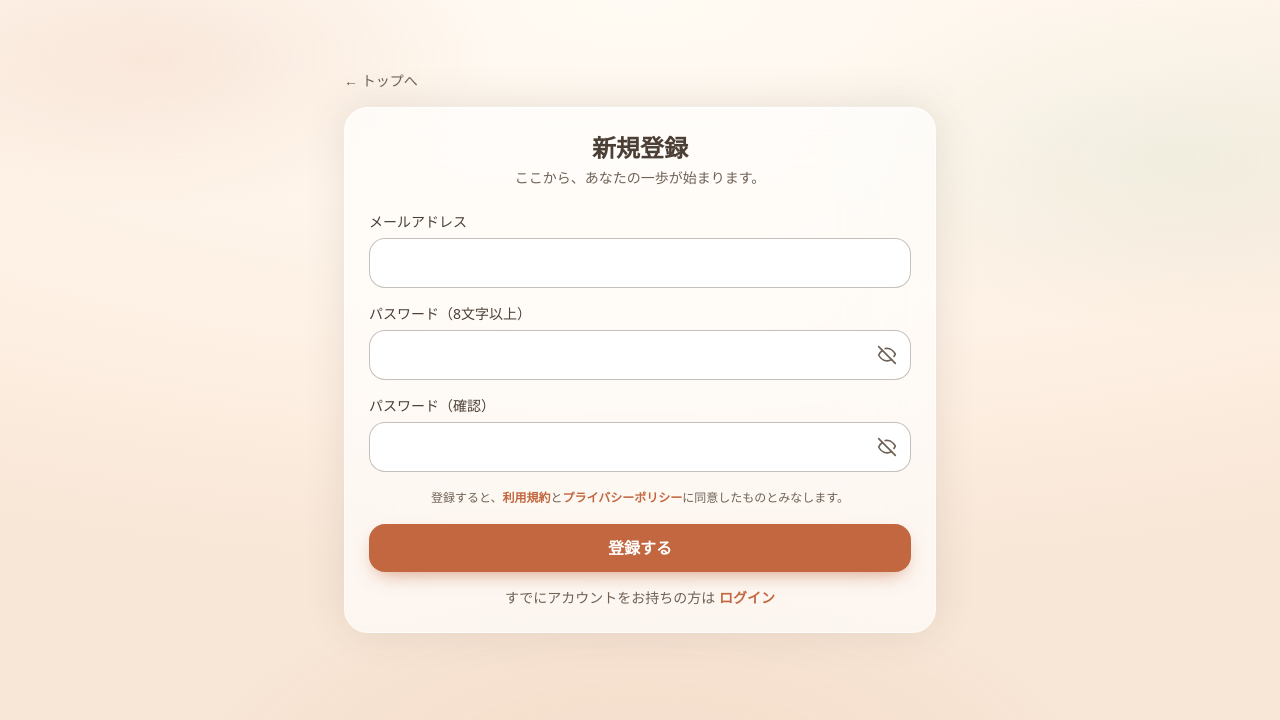
Test case: RegisterForm › パスワードが8文字未満ならエラーを表示する
In the field labelled "メールアドレス": (640, 263) [369, 238, 911, 288], type "taro@example.com"
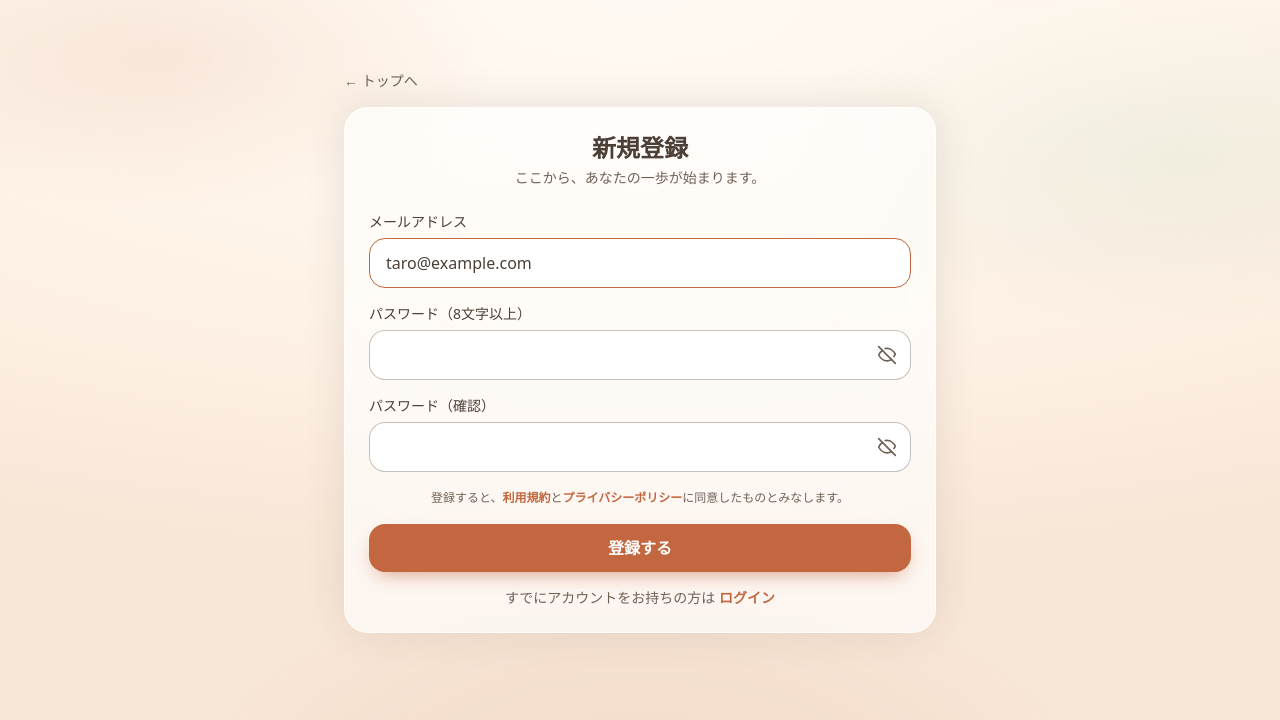
In the password field labelled "パスワード（8文字以上）": (640, 355) [369, 330, 911, 380], type "short"
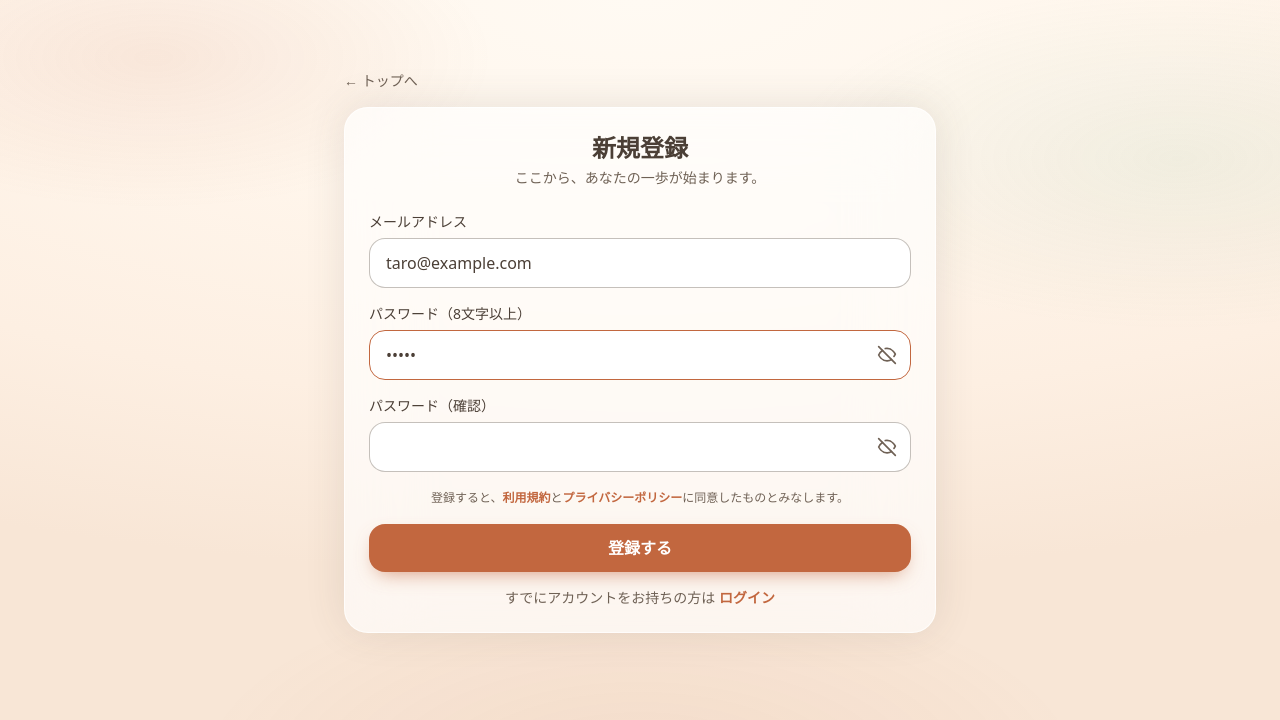
In the password field labelled "パスワード（確認）": (640, 447) [369, 422, 911, 472], type "short"
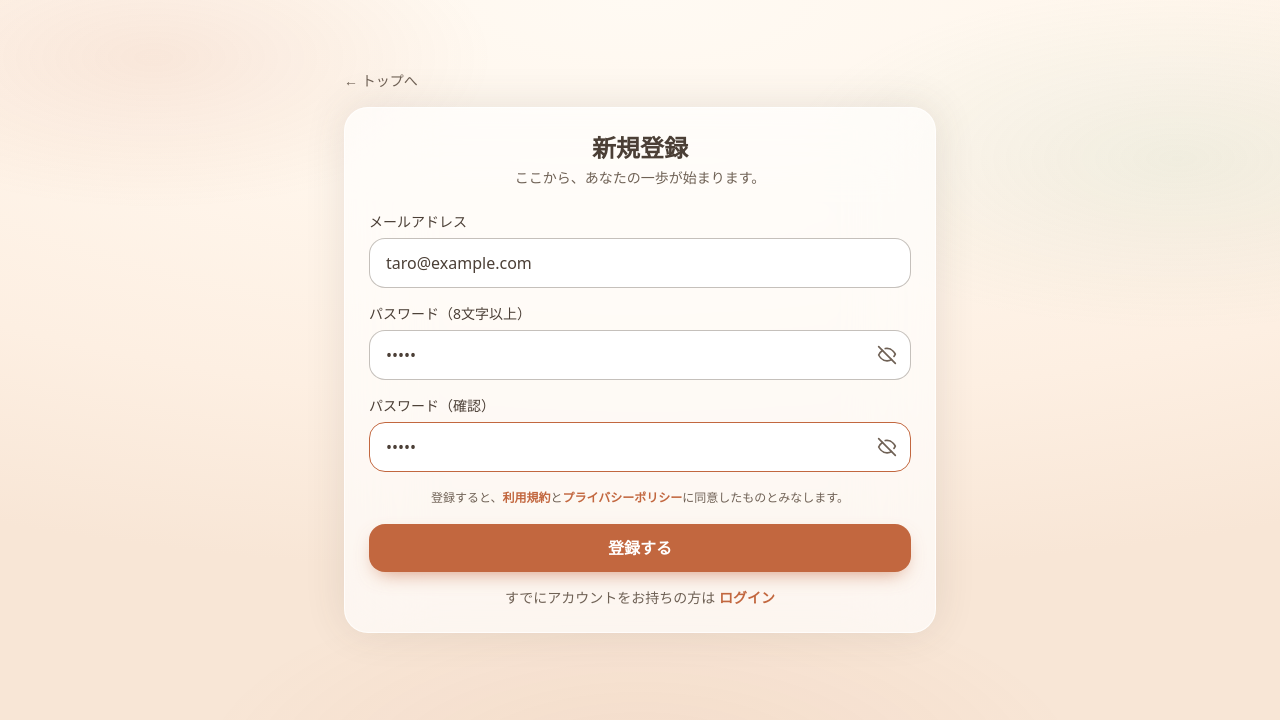
Click the button "登録する": (640, 548) [369, 524, 911, 572]
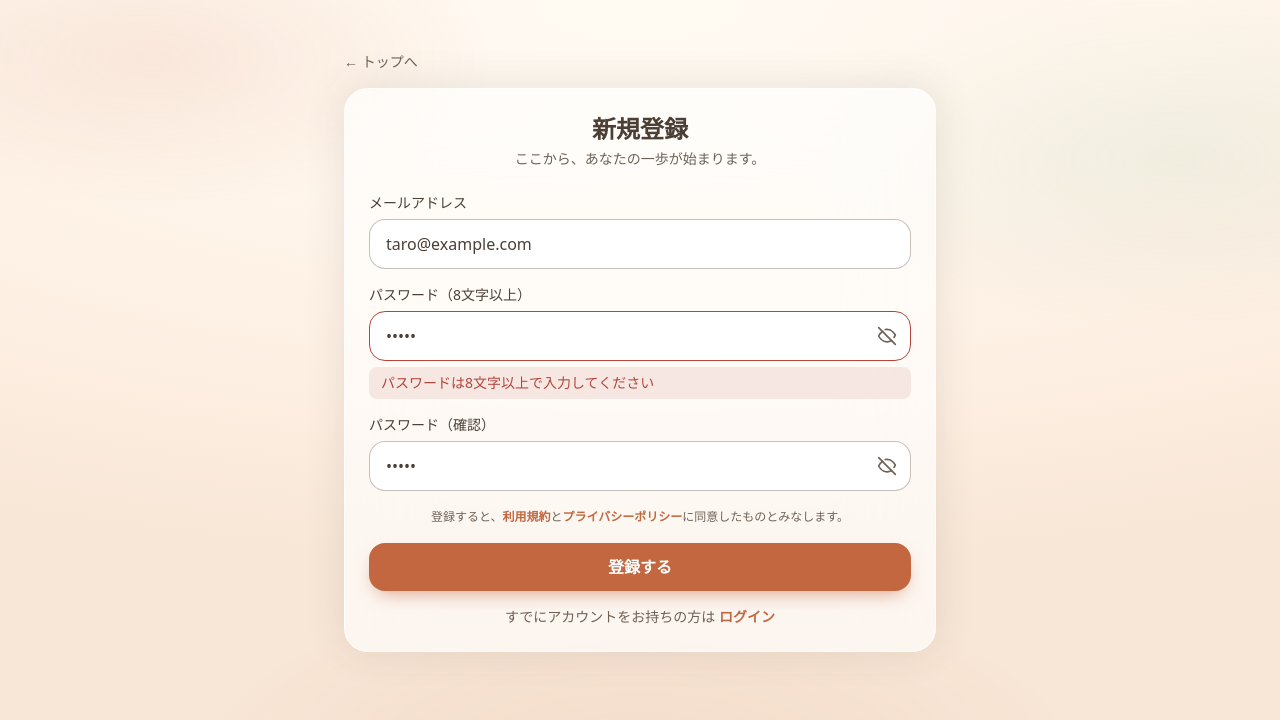
Check: the text "パスワードは8文字以上で入力してください" is shown, box [369, 367, 911, 399]
